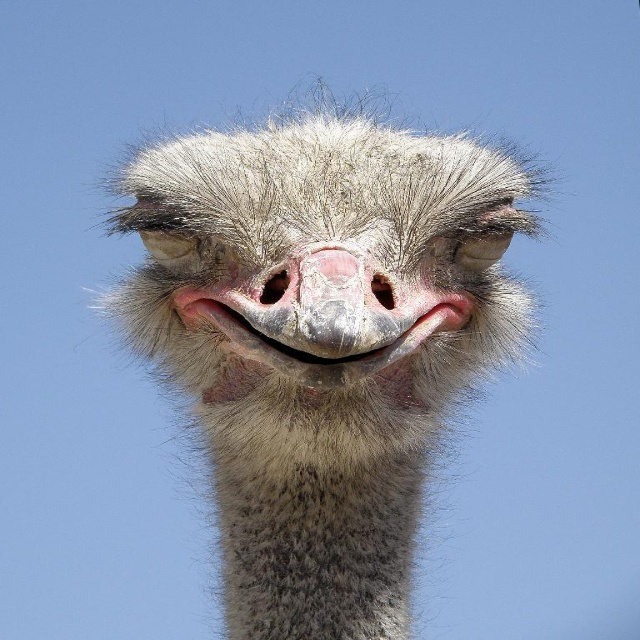Ostrich: (96, 88, 564, 624)
